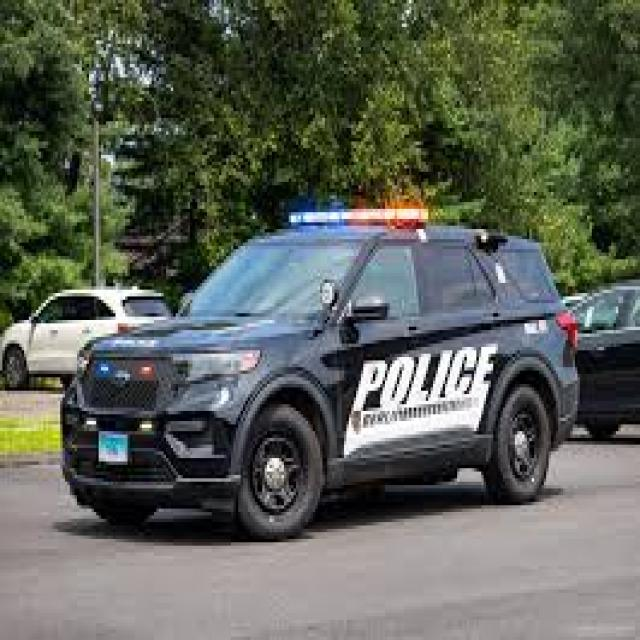cop: (58, 209, 582, 535)
